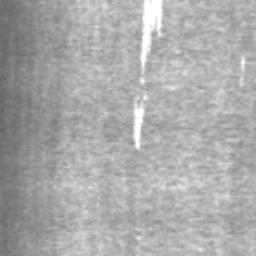White rust: (139, 0, 165, 73), (132, 98, 146, 152), (239, 54, 246, 87), (140, 76, 145, 86)
